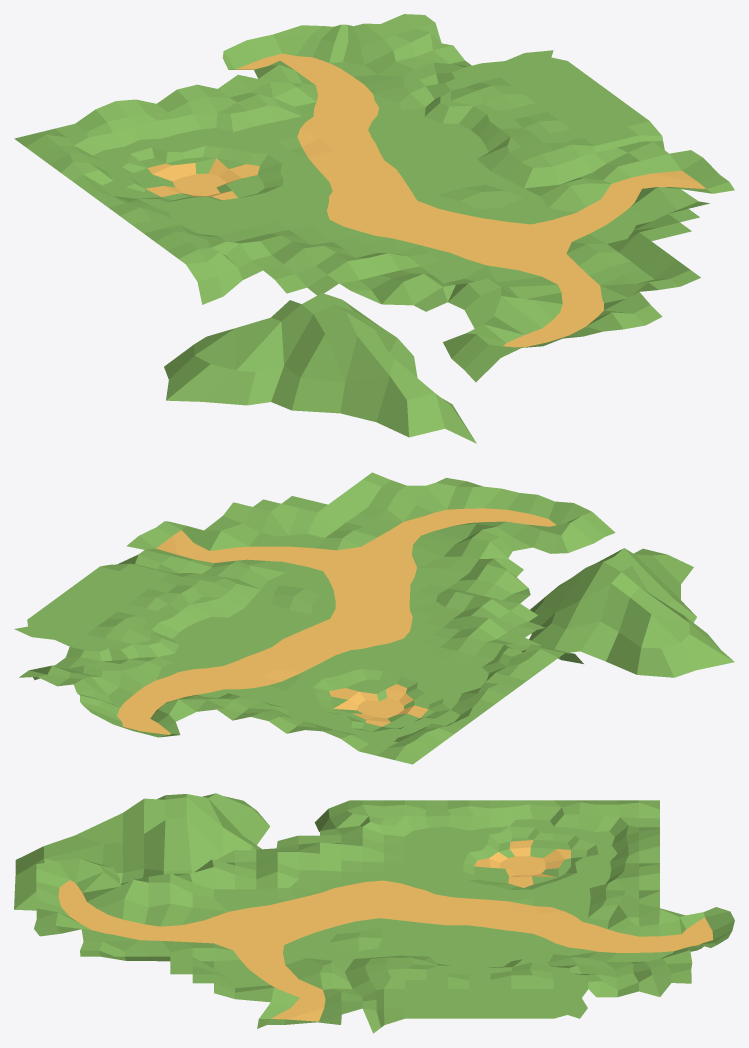
File: forest-mainPlane.fbx
3 renders of one model, top to bottom at view 1: azimuth 30°, elevation 25°; view 2: azimuth 150°, elevation 25°; view 3: azimuth 270°, elevation 25°, orthographic. The views are drawn at different scales.
Visible parts, largest first — view 1: Plane.006; view 2: Plane.006; view 3: Plane.006.
Part boxes in pixels (x1,y1,x2,y2): Plane.006: (14,14,734,443); Plane.006: (14,472,734,764); Plane.006: (14,793,734,1033).
Size of the model in its own units: 24102 by 3628 by 27446.
